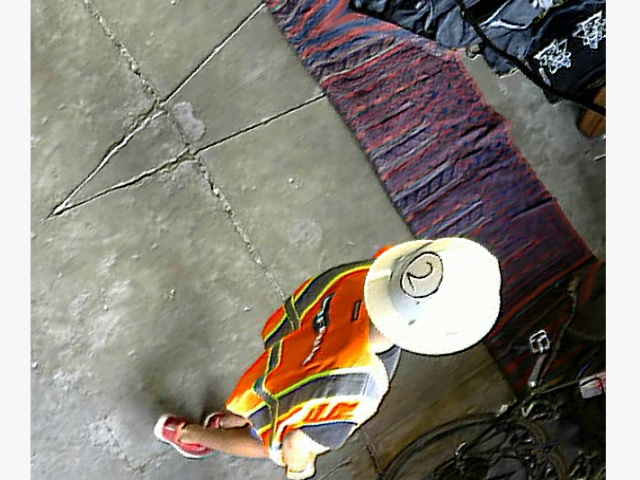two: (392, 246, 454, 306)
